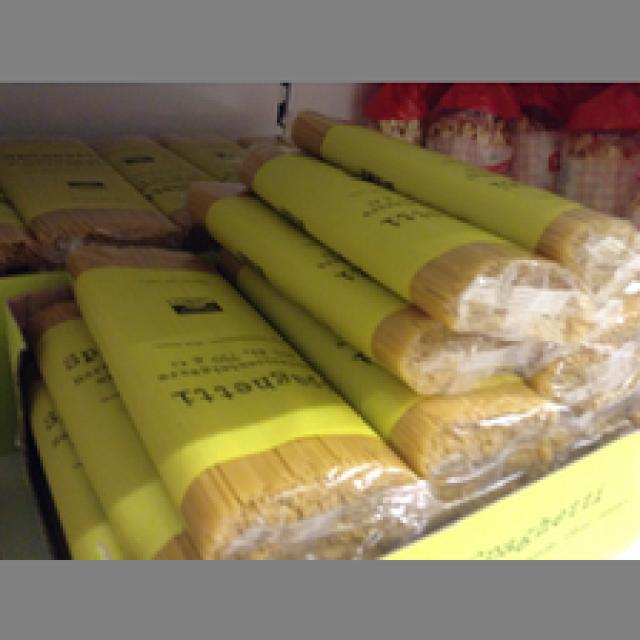groceries: (66, 237, 431, 554), (234, 140, 589, 329), (0, 132, 177, 248)
